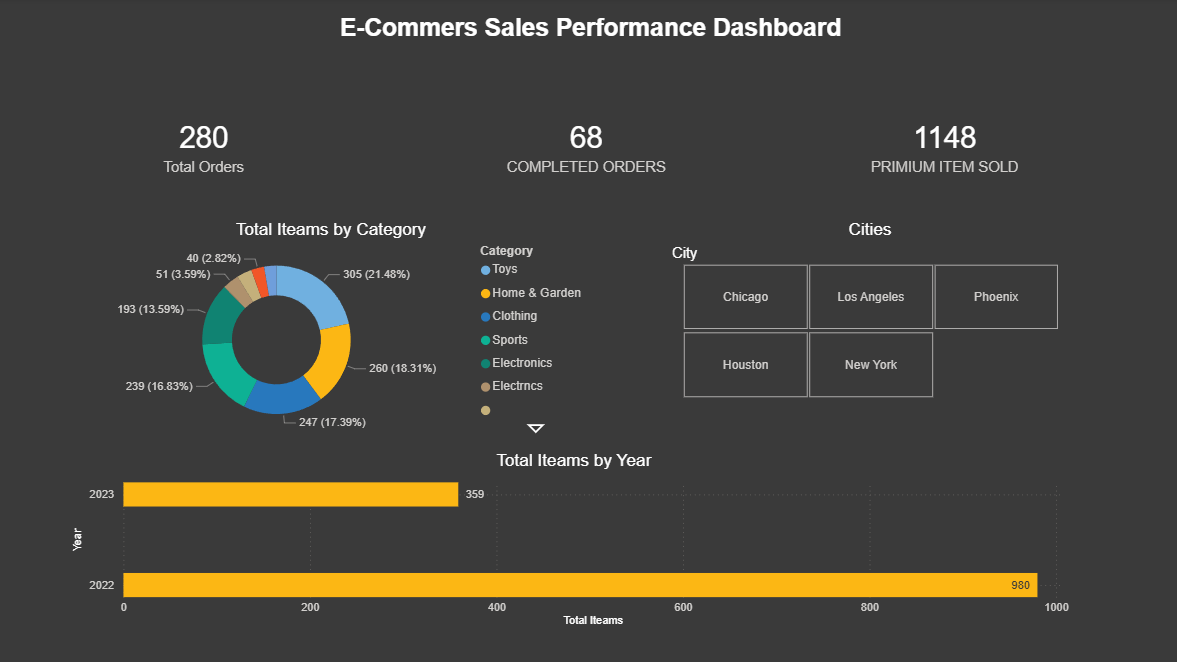

What the dashboard file says about the page in this screenshot:
{"tool":"powerbi","page":{"name":"Page 1","canvas":[1280,720],"ordinal":0},"visuals":[{"type":"card","fields":{"Values":["messy_orders.Total Orders"]},"box":[76.2,77.9,294.9,162.3],"z":0},{"type":"card","fields":{"Values":["messy_orders.COMPLETED ORDERS"]},"box":[492,77.9,294.9,162.3],"z":1},{"type":"card","fields":{"Values":["messy_orders.PRIMIUM ITEM SOLD"]},"box":[879.6,77.9,294.9,162.3],"z":2},{"type":"clusteredBarChart","fields":{"Category":["messy_orders.Order Date.Variation.Date Hierarchy.Year","messy_orders.Order Date.Variation.Date Hierarchy.Quarter","messy_orders.Order Date.Variation.Date Hierarchy.Month","messy_orders.Order Date.Variation.Date Hierarchy.Day"],"Y":["messy_orders.Total Iteams"]},"box":[76.2,492,1098.2,195.5],"z":3},{"type":"donutChart","fields":{"Category":["messy_orders.Category"],"Y":["messy_orders.Total Iteams"]},"box":[76.2,240.2,571.5,238.5],"z":4},{"type":"slicer","title":"Cities","fields":{"Values":["messy_customers.City"]},"box":[718.9,240.2,455.5,198.8],"z":5},{"type":"textbox","box":[293.2,11.6,709,48],"z":6}]}

Visuals, with their boxes in screenshot pixels (x1, y1, x2, y2), scaled from the page's 1280x720 canvas onto the 1177x662 screenshot:
card - messy_orders.Total Orders: (left=70, top=72, right=341, bottom=221)
card - messy_orders.COMPLETED ORDERS: (left=452, top=72, right=724, bottom=221)
card - messy_orders.PRIMIUM ITEM SOLD: (left=809, top=72, right=1080, bottom=221)
clusteredBarChart - messy_orders.Order Date.Variation.Date Hierarchy.Year x messy_orders.Order Date.Variation.Date Hierarchy.Quarter: (left=70, top=452, right=1080, bottom=632)
donutChart - messy_orders.Category x messy_orders.Total Iteams: (left=70, top=221, right=596, bottom=440)
"Cities" slicer: (left=661, top=221, right=1080, bottom=404)
textbox: (left=270, top=11, right=922, bottom=55)
